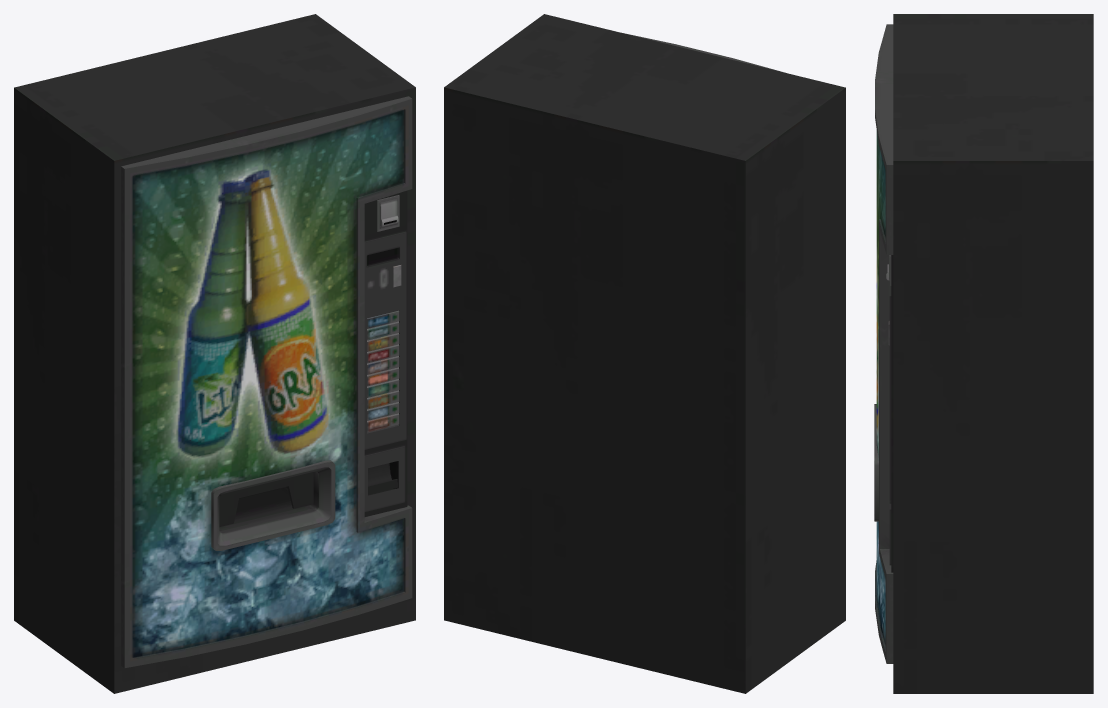
The model's file is Hotel_VendingMachine01.fbx.
3 renders of one model, left to right at view 1: azimuth 30°, elevation 25°; view 2: azimuth 150°, elevation 25°; view 3: azimuth 270°, elevation 25°, orthographic.
Parts seen in each view (by area): view 1: ItemBox_VendingMachine_01; view 2: ItemBox_VendingMachine_01; view 3: ItemBox_VendingMachine_01.
Boxes of the visible parts, x1,y1,x2,y2 form: ItemBox_VendingMachine_01: (14,14,415,693); ItemBox_VendingMachine_01: (444,14,845,693); ItemBox_VendingMachine_01: (874,14,1093,693).
Bounding box in the file's own units: 124 × 210 × 78.43.
Materials: 1 (1 with a texture image).
